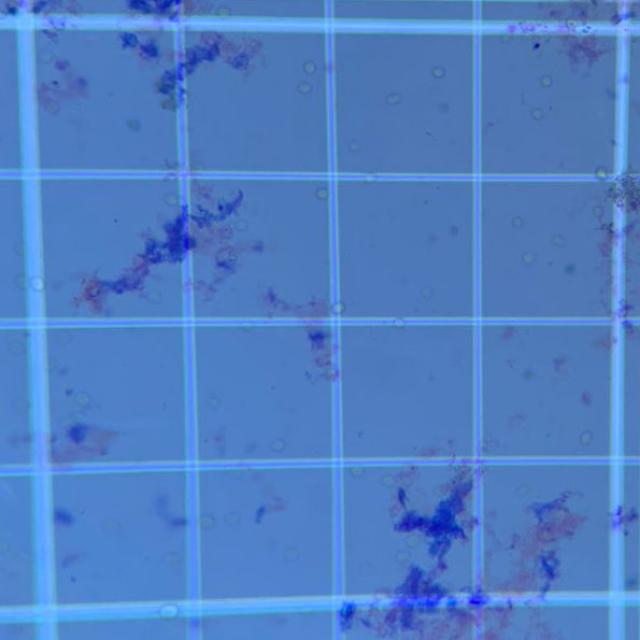Cell: (66, 388, 94, 413), (404, 533, 423, 549), (7, 339, 26, 355), (164, 551, 182, 566), (283, 547, 300, 562), (520, 251, 536, 266), (200, 514, 215, 530), (146, 289, 162, 304), (38, 50, 54, 65), (161, 604, 178, 618), (223, 512, 240, 526), (579, 430, 594, 445), (297, 81, 313, 95), (30, 276, 44, 292), (270, 438, 286, 452), (163, 193, 180, 206), (431, 65, 446, 79), (303, 60, 317, 75), (206, 396, 221, 410), (386, 92, 402, 105), (234, 219, 249, 232), (126, 118, 141, 131), (314, 188, 330, 200), (552, 234, 566, 247), (594, 165, 608, 178), (348, 140, 361, 154), (420, 286, 433, 300), (592, 205, 605, 218), (510, 216, 524, 228), (530, 108, 544, 120), (437, 101, 451, 113), (448, 224, 460, 237), (564, 263, 577, 275), (522, 368, 534, 381), (540, 75, 552, 87), (350, 468, 364, 478), (334, 302, 345, 314), (427, 233, 439, 244), (394, 318, 406, 328), (364, 173, 376, 182), (356, 430, 365, 439)
